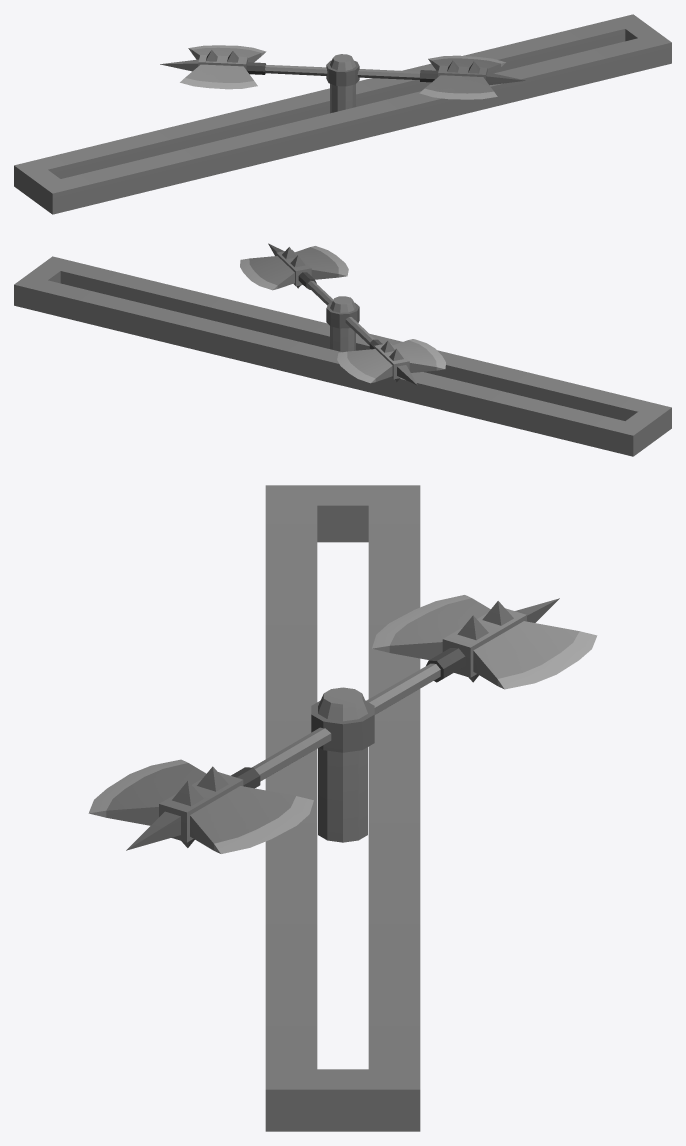
The model's file is Mini_Loop_Trap_5.fbx.
The picture shows the model from 3 angles, top to bottom: view 1: azimuth 30°, elevation 25°; view 2: azimuth 150°, elevation 25°; view 3: azimuth 270°, elevation 25°; orthographic projection. The views are drawn at different scales.
Parts seen in each view (by area): view 1: Mini_Loop_Trap_5, Mini_Loop_Trap_5_Axes; view 2: Mini_Loop_Trap_5, Mini_Loop_Trap_5_Axes; view 3: Mini_Loop_Trap_5, Mini_Loop_Trap_5_Axes.
Part boxes in pixels (<box>): Mini_Loop_Trap_5: <box>14,14,671,214</box>; Mini_Loop_Trap_5_Axes: <box>160,45,525,113</box>; Mini_Loop_Trap_5: <box>14,256,671,456</box>; Mini_Loop_Trap_5_Axes: <box>240,243,445,385</box>; Mini_Loop_Trap_5: <box>265,485,420,1131</box>; Mini_Loop_Trap_5_Axes: <box>88,595,597,853</box>.
Size of the model in its own units: 391 by 42.5 by 139.
Materials: 1 (1 with a texture image).
